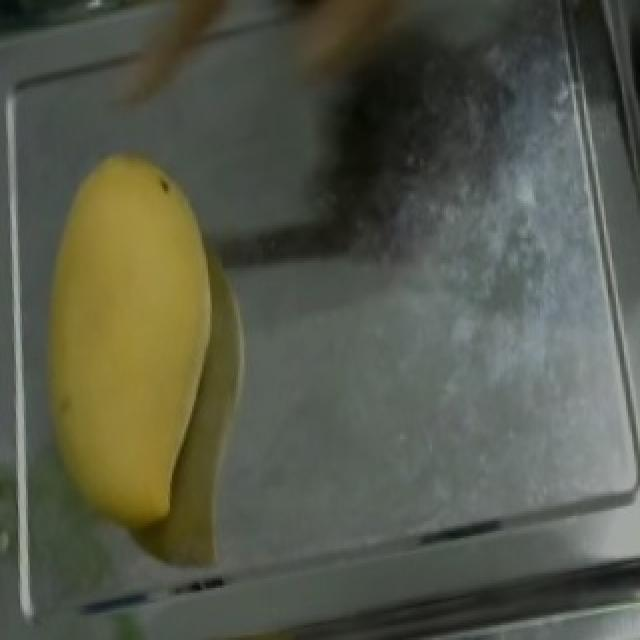fruit: (8, 119, 282, 519)
